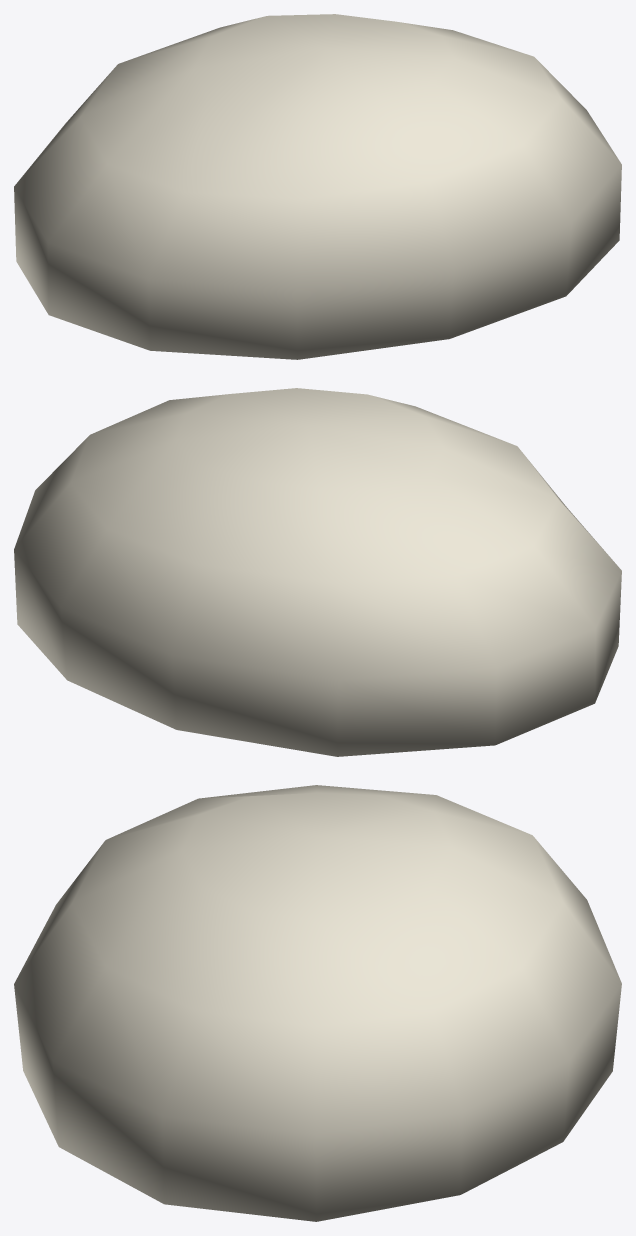
File: white_stones.glb
3 renders of one model, top to bottom at view 1: azimuth 30°, elevation 25°; view 2: azimuth 150°, elevation 25°; view 3: azimuth 270°, elevation 25°, orthographic. The views are drawn at different scales.
Parts seen in each view (by area): view 1: white_stone_11; view 2: white_stone_11; view 3: white_stone_11.
Boxes of the visible parts, <box> form: white_stone_11: <box>14,14,621,359</box>; white_stone_11: <box>14,388,621,756</box>; white_stone_11: <box>14,785,621,1221</box>.
Size of the model in its own units: 2.91 by 1.12 by 2.42.
